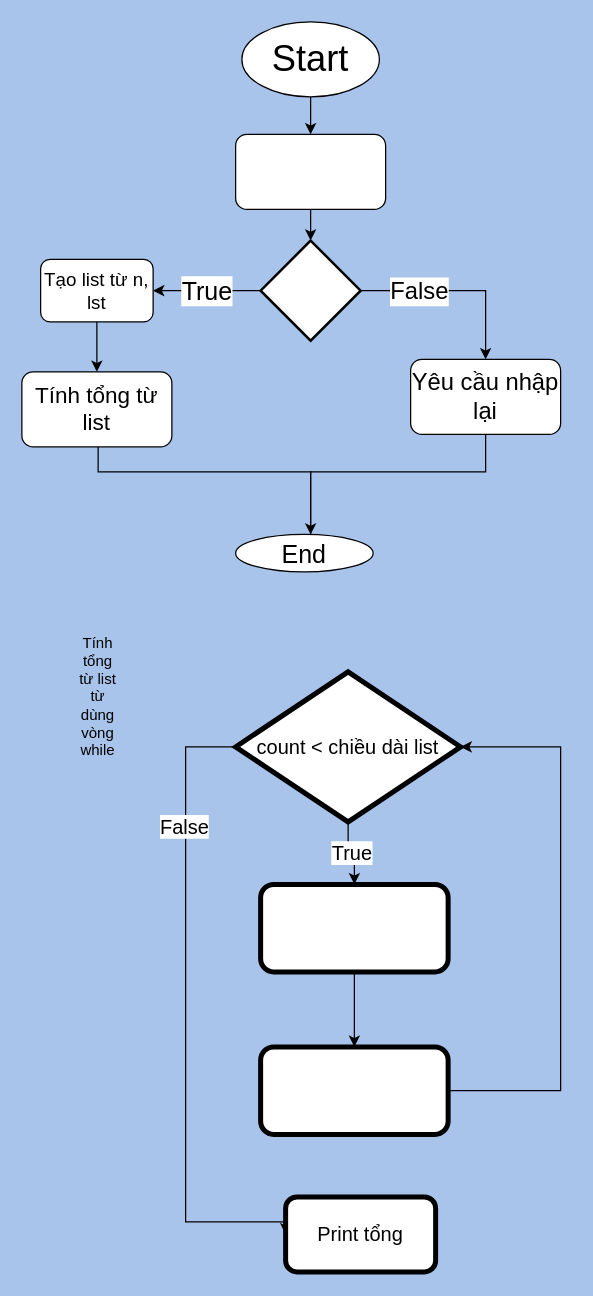
Image size: 593x1296. Some labels were removed from this diagram. Here are the shapes that lost their labels. From the top down, the box of each, then its label:
(234, 133, 386, 209): Nhập số n
(259, 239, 361, 341): n > 0
(258, 881, 450, 974): tổng = tổng + phần tử kết tiếp
(258, 1044, 450, 1136): tăng count lên 1
